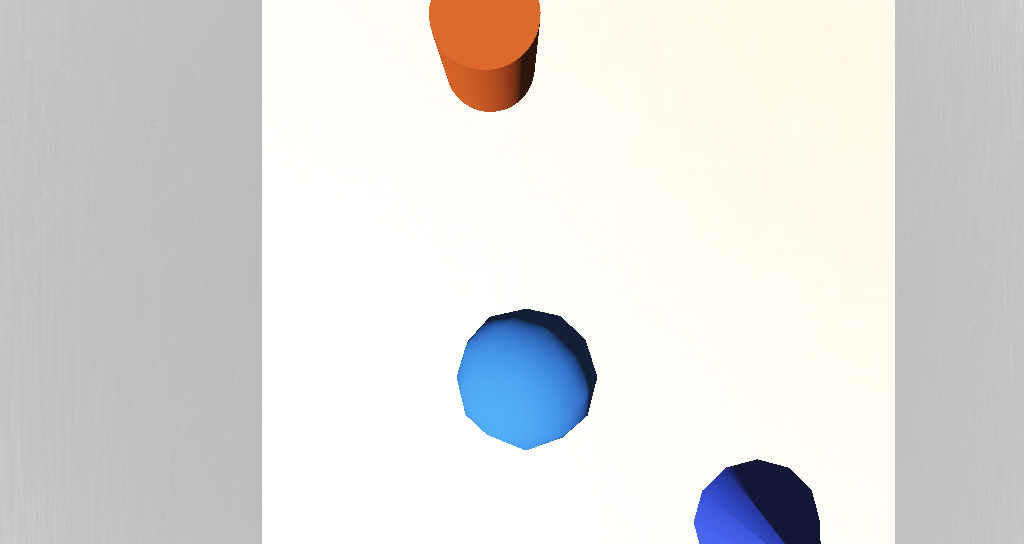cone: (441, 177, 488, 215)
cylinder: (566, 334, 633, 382)
sphere: (445, 277, 512, 324)
